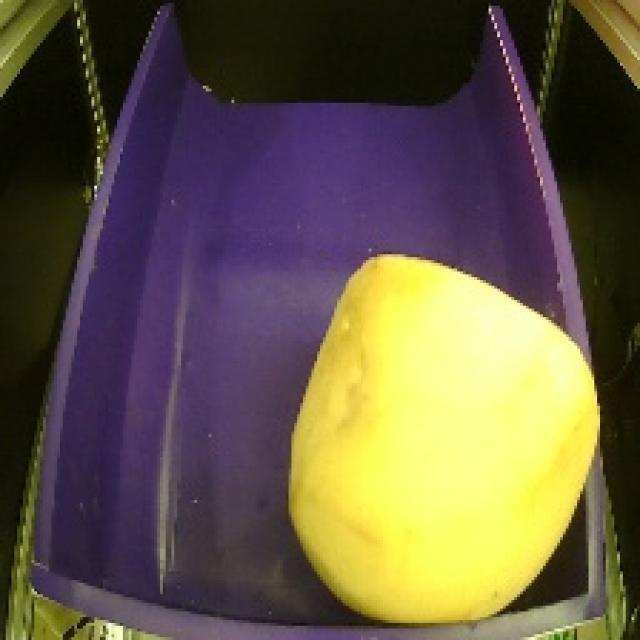full_potato: (264, 225, 603, 632)
